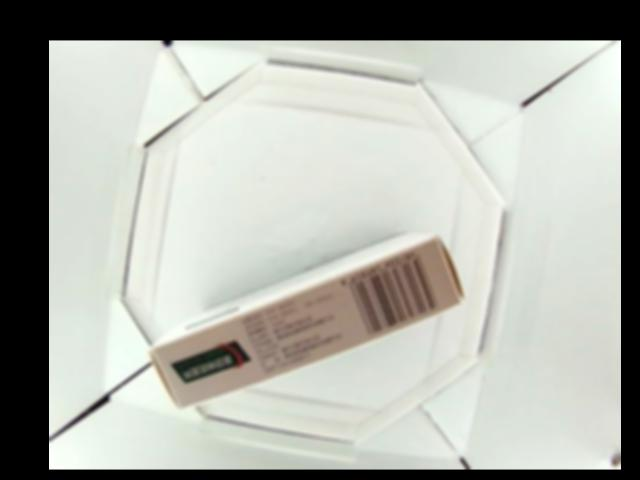Medicine: (148, 235, 464, 408)
